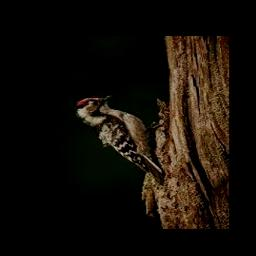Woodpecker: (74, 94, 163, 184)
